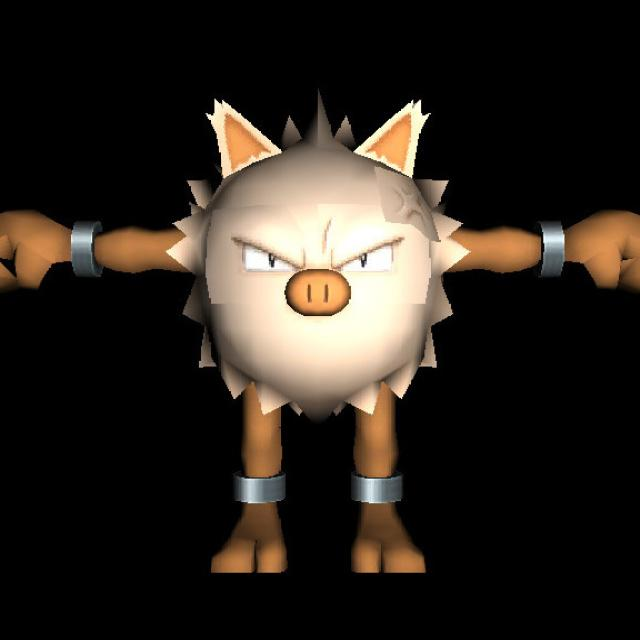Primeape: (84, 92, 556, 574)
